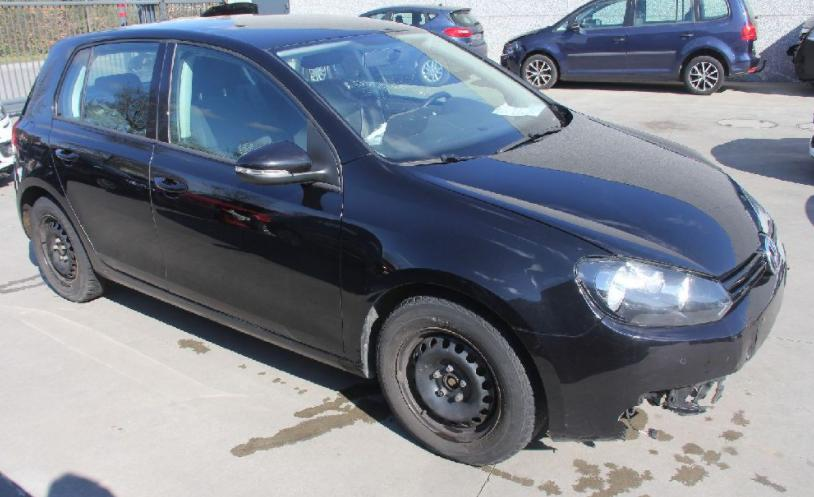Back-door: (48, 38, 170, 291)
Back-wheel: (29, 192, 109, 303)
Back-window: (56, 43, 159, 137)
Fender: (339, 154, 617, 362)
Front-bumper: (512, 260, 787, 444)
Front-door: (149, 38, 345, 358)
Front-wheel: (375, 284, 548, 466)
Front-window: (169, 43, 308, 160)
Grille: (716, 231, 787, 303)
Headlight: (575, 257, 734, 329), (737, 184, 779, 244)
Hood: (399, 108, 763, 278)
Mirror: (234, 119, 339, 186)
Quarter-panel: (14, 118, 99, 258)
Rocker-panel: (89, 255, 369, 378)
Roof: (90, 14, 422, 50)
Tail-light: (11, 118, 20, 156)
Windshield: (268, 28, 573, 166)
